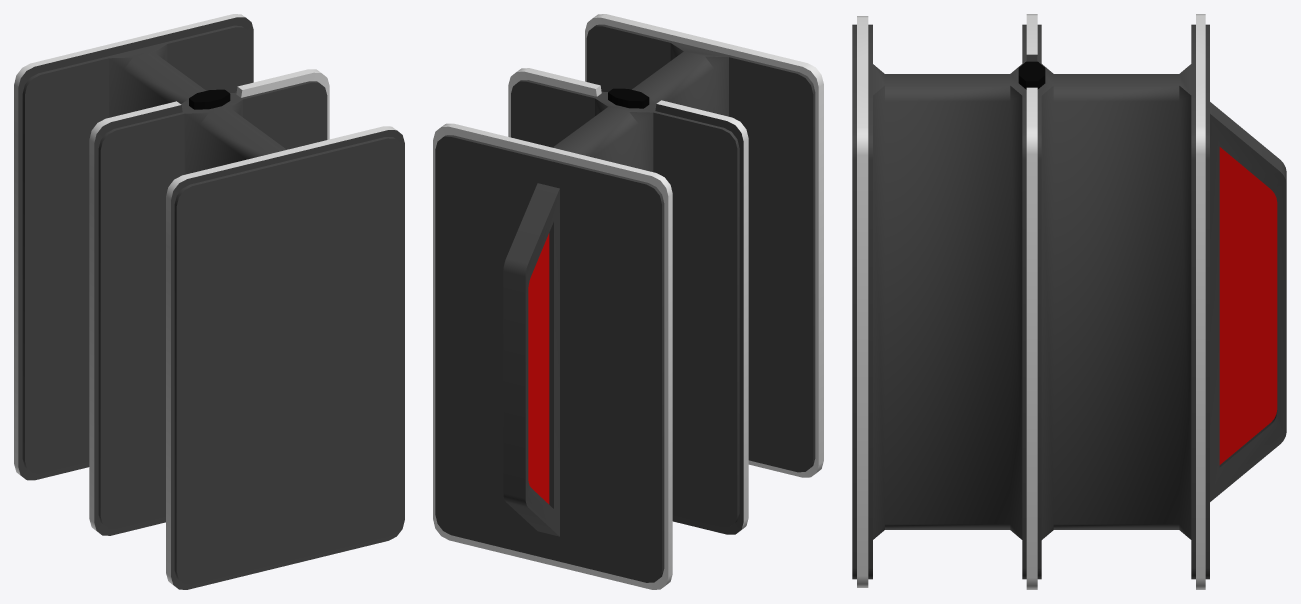
Rendered from Shelf_2.fbx.
3 renders of one model, left to right at view 1: azimuth 30°, elevation 25°; view 2: azimuth 150°, elevation 25°; view 3: azimuth 270°, elevation 25°, orthographic. The views are drawn at different scales.
Parts seen in each view (by area): view 1: Cube.001; view 2: Cube.001; view 3: Cube.001.
Boxes of the visible parts, x1,y1,x2,y2 form: Cube.001: (14,14,404,589); Cube.001: (433,14,823,589); Cube.001: (852,14,1286,589).
Bounding box in the file's own units: 1.24 × 2.08 × 1.77.
